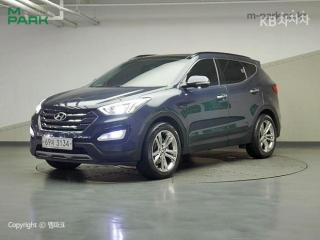1: (60, 139, 63, 147)
3: (55, 139, 60, 147), (62, 139, 66, 148)
4: (65, 140, 70, 147)
6: (45, 138, 48, 145)
9: (48, 138, 51, 146)
저: (51, 139, 55, 146)
